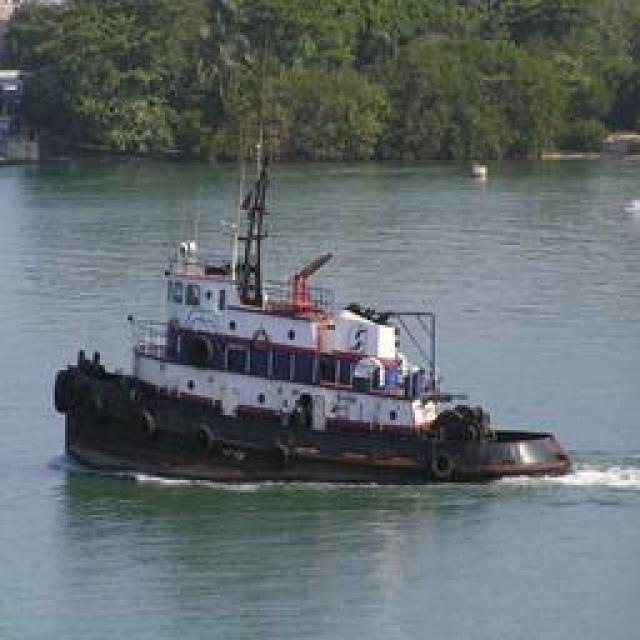ship2: (52, 120, 574, 488)
